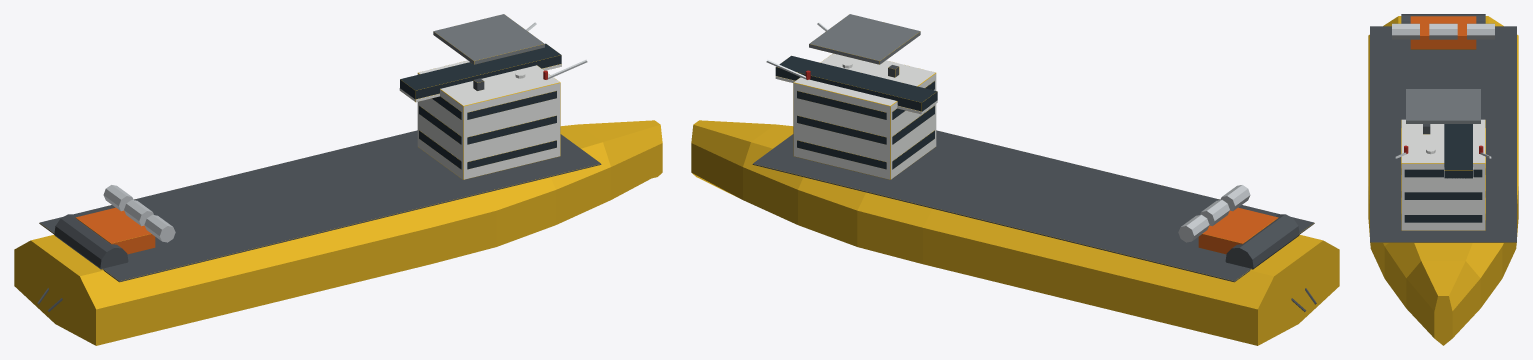
The model's file is off_ahts.glb.
The picture shows the model from 3 angles, left to right: view 1: azimuth 30°, elevation 25°; view 2: azimuth 150°, elevation 25°; view 3: azimuth 270°, elevation 25°; orthographic projection. The views are drawn at different scales.
Parts seen in each view (by area): view 1: off_ahts; view 2: off_ahts; view 3: off_ahts.
Boxes of the visible parts, <box> form: off_ahts: <box>14,14,662,345</box>; off_ahts: <box>691,14,1339,345</box>; off_ahts: <box>1368,14,1518,345</box>.
Bounding box in the file's own units: 69.44 × 19.48 × 16.
